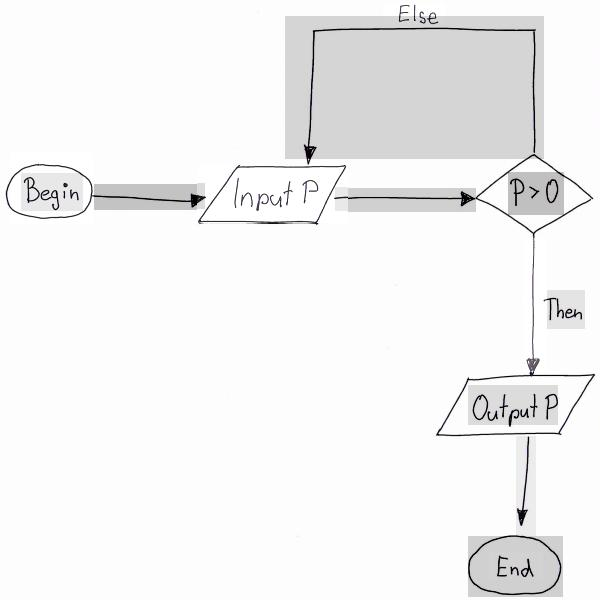arrow: (285, 16, 544, 159), (336, 188, 476, 212), (523, 238, 547, 372), (94, 184, 206, 210), (516, 436, 536, 536)
data: (198, 166, 348, 223)
decision: (475, 154, 595, 233)
terminator: (10, 153, 93, 225)
text: (468, 536, 563, 597), (468, 385, 558, 425), (234, 177, 324, 210), (508, 172, 564, 215), (21, 173, 83, 211), (544, 290, 585, 329), (489, 552, 543, 579), (383, 3, 445, 24)
